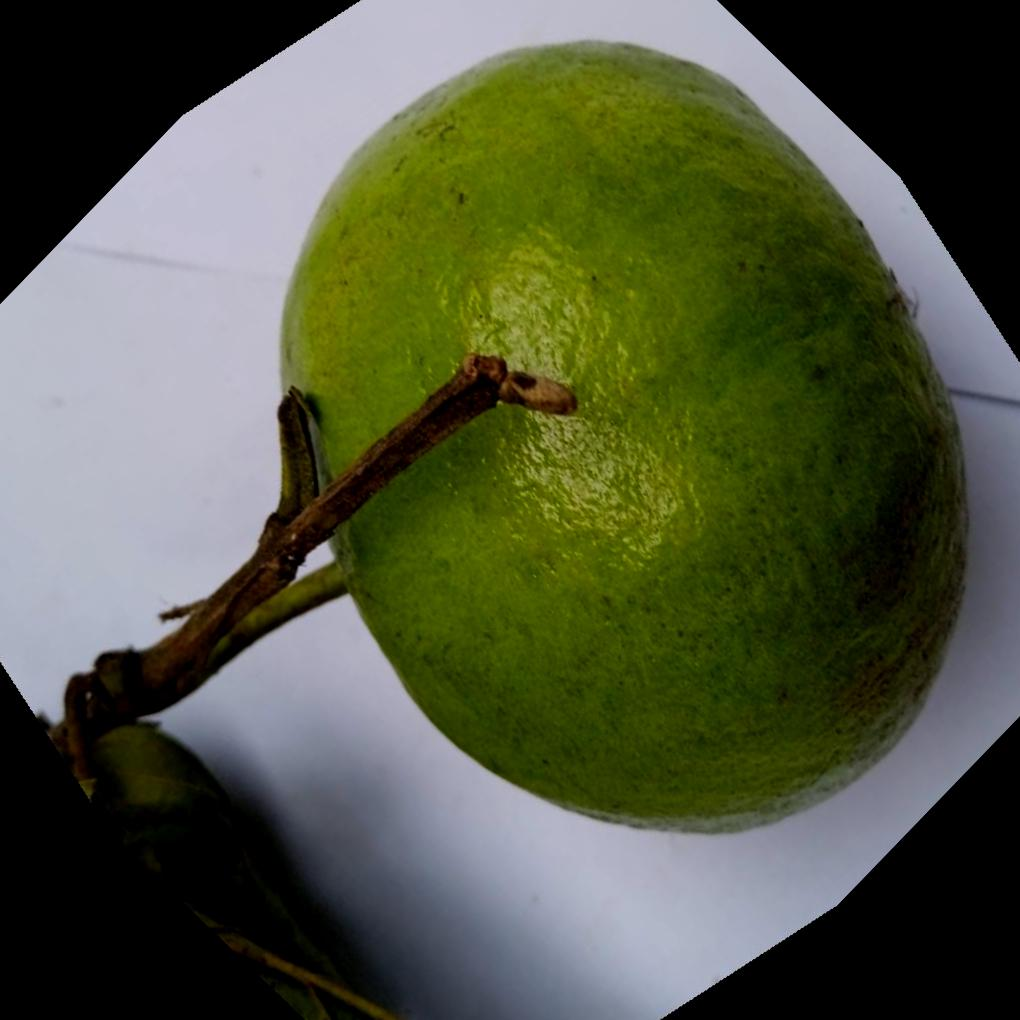FreshGuava: (240, 39, 969, 839)
